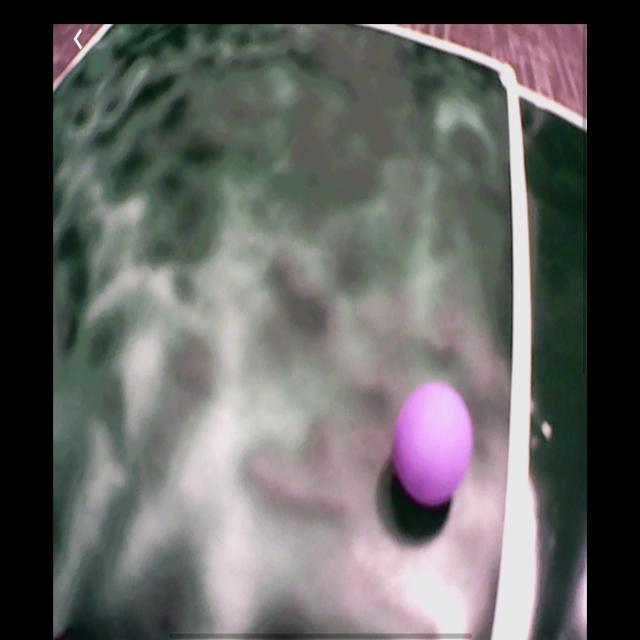ball: (392, 381, 473, 508)
